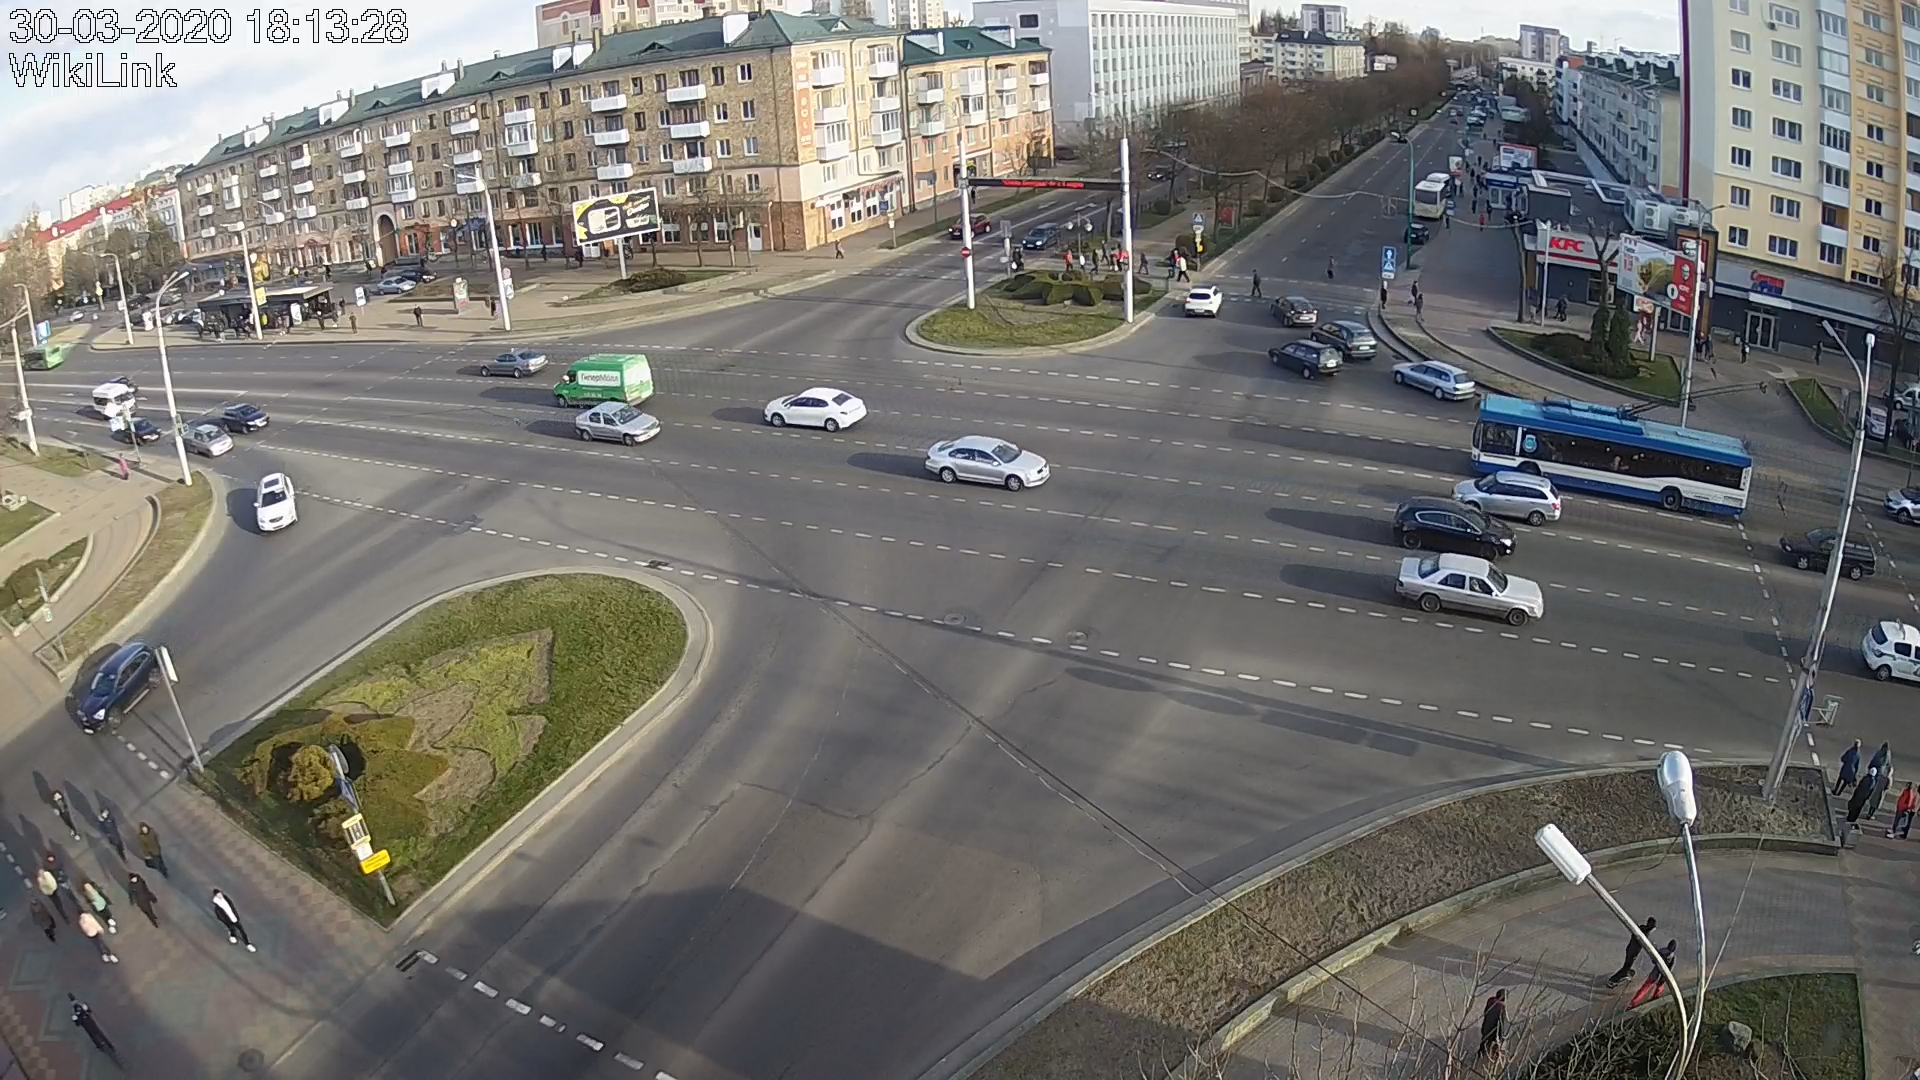bus: (1472, 392, 1754, 517)
car: (1395, 553, 1545, 626), (1393, 496, 1516, 560), (76, 642, 161, 735), (923, 434, 1051, 491), (1451, 469, 1563, 527), (553, 353, 655, 410), (1779, 527, 1876, 580), (764, 386, 868, 433), (574, 401, 661, 447), (1393, 360, 1476, 402), (1269, 339, 1342, 378), (253, 472, 298, 534), (1311, 320, 1377, 361), (480, 348, 549, 378), (222, 404, 269, 434), (1270, 295, 1317, 326), (190, 425, 233, 458), (1185, 284, 1224, 318), (949, 212, 992, 240), (1022, 222, 1062, 251), (125, 415, 161, 446)
